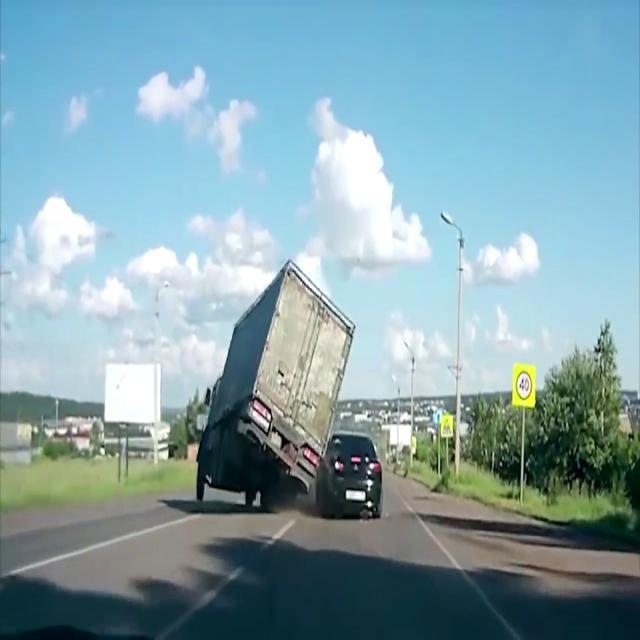multiple_accident: (187, 253, 460, 549)
